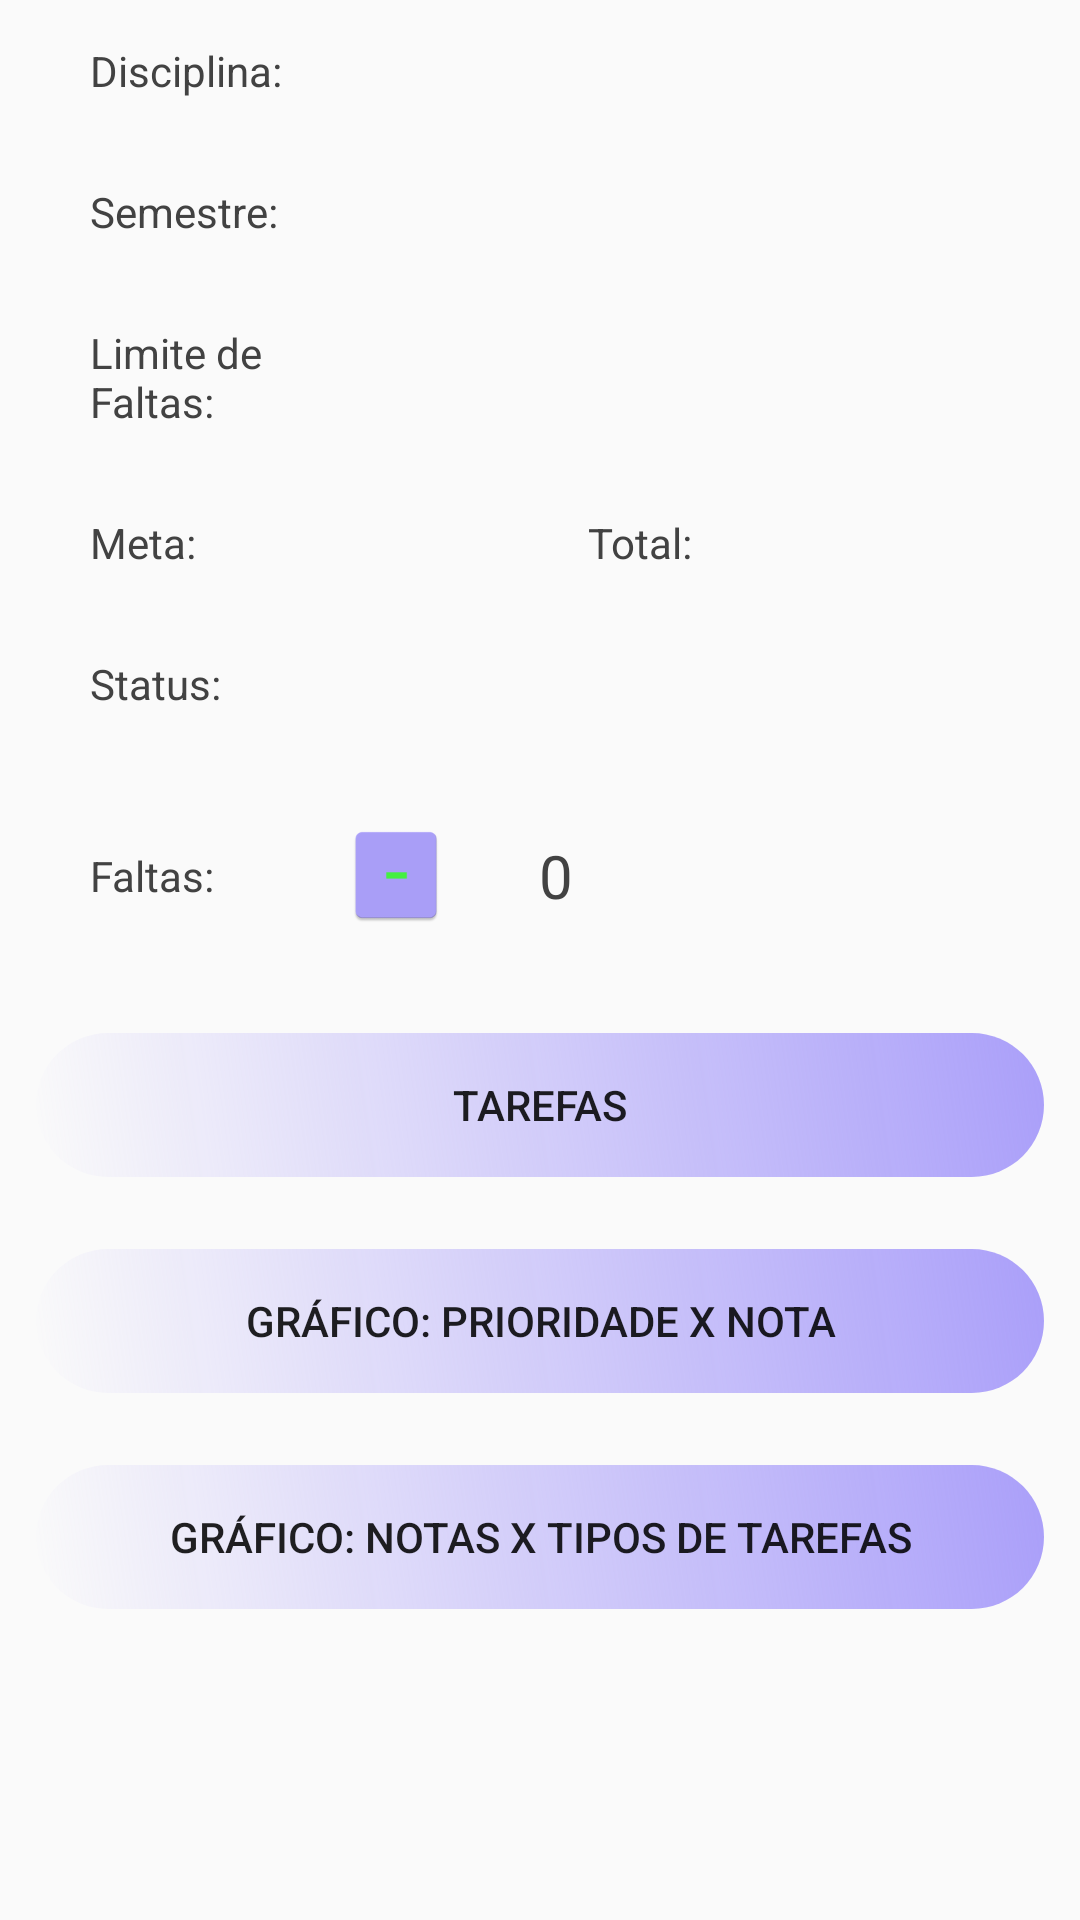

Locate icon controls on the screen. Image size 1080×1920, boxes as [x1=x1, y1=y1, x2=x2, y2=y2].
menos: [x1=355, y1=832, x2=437, y2=920]
